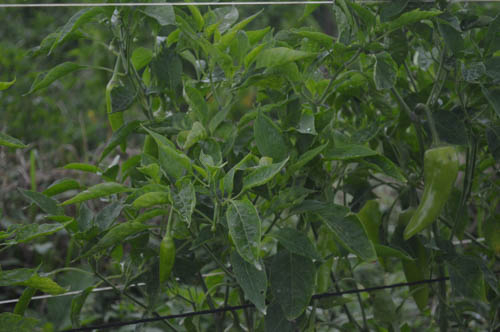ChiliPepper: (406, 147, 459, 244), (156, 238, 176, 283)
